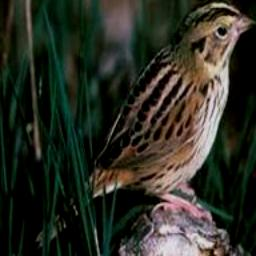Sparrow: (3, 0, 256, 256)
